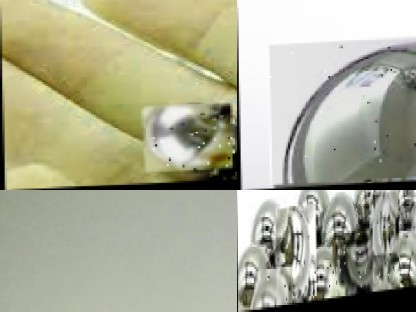ironball: (268, 38, 415, 186), (143, 104, 231, 173), (275, 203, 315, 305), (236, 241, 271, 309), (369, 195, 399, 271), (321, 191, 357, 253), (344, 232, 373, 299), (253, 267, 292, 310), (250, 196, 274, 262), (296, 189, 327, 232), (323, 260, 347, 301), (354, 190, 384, 221), (390, 188, 414, 223), (208, 155, 236, 182), (406, 216, 415, 260)
